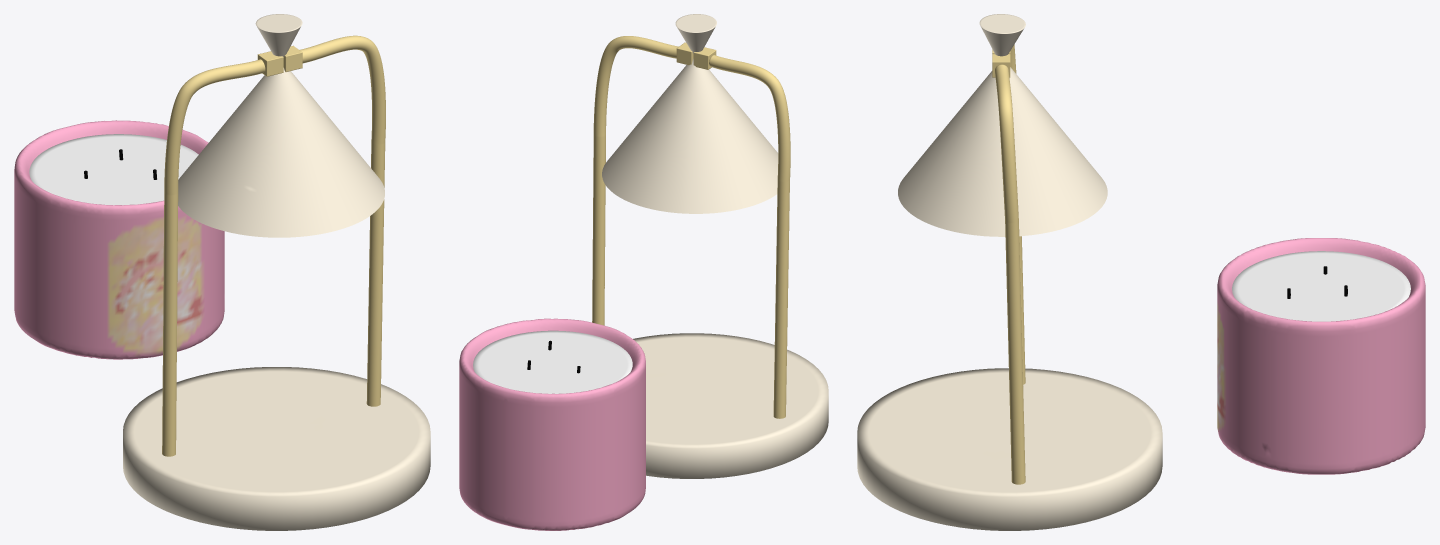
File: Candlewarmer.glb
3 views of the same model, side by side, from view 1: azimuth 30°, elevation 25°; view 2: azimuth 150°, elevation 25°; view 3: azimuth 270°, elevation 25° (orthographic). The views are drawn at different scales.
Parts seen in each view (by area): view 1: Candle stand, Candle glass container, Light warmer, Candle wax, Gold rods.001, Gold rods, Top cone; view 2: Candle glass container, Candle stand, Light warmer, Candle wax, Gold rods.001, Gold rods, Top cone; view 3: Candle stand, Candle glass container, Light warmer, Candle wax, Gold rods, Top cone.
Part boxes in pixels (<box>): Candle stand: <box>123,367,430,530</box>; Candle glass container: <box>14,120,224,359</box>; Light warmer: <box>178,68,384,237</box>; Candle wax: <box>29,134,198,205</box>; Gold rods.001: <box>162,59,265,456</box>; Gold rods: <box>299,35,385,406</box>; Top cone: <box>255,14,302,57</box>; Candle glass container: <box>459,318,645,530</box>; Candle stand: <box>633,333,828,478</box>; Light warmer: <box>602,58,778,213</box>; Candle wax: <box>473,330,632,393</box>; Gold rods.001: <box>709,55,790,418</box>; Gold rods: <box>592,36,678,325</box>; Top cone: <box>675,14,716,53</box>; Candle stand: <box>857,368,1162,530</box>; Candle glass container: <box>1217,238,1425,474</box>; Light warmer: <box>898,67,1107,236</box>; Candle wax: <box>1232,251,1410,321</box>; Gold rods: <box>995,64,1025,484</box>; Top cone: <box>979,14,1025,56</box>.
Size of the model in its own units: 1.67 by 2.67 by 3.11.
